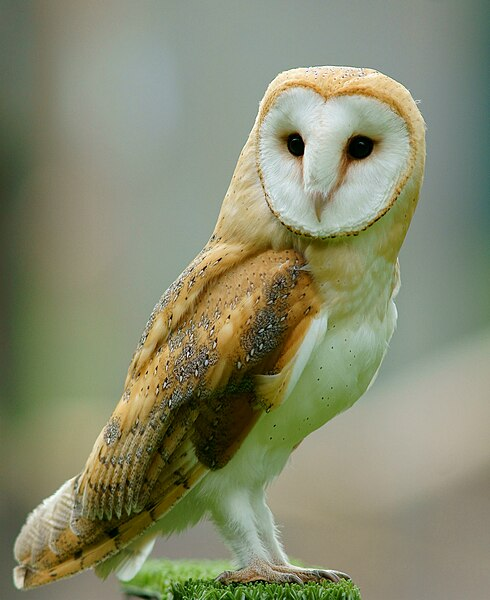owl: (23, 65, 434, 586)
